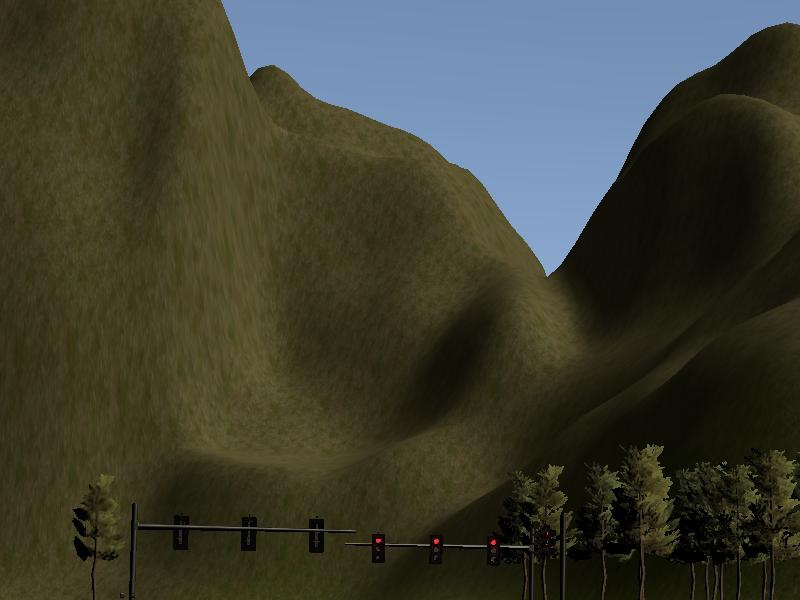Red: (370, 536, 385, 564), (430, 535, 442, 566), (488, 537, 499, 566)
